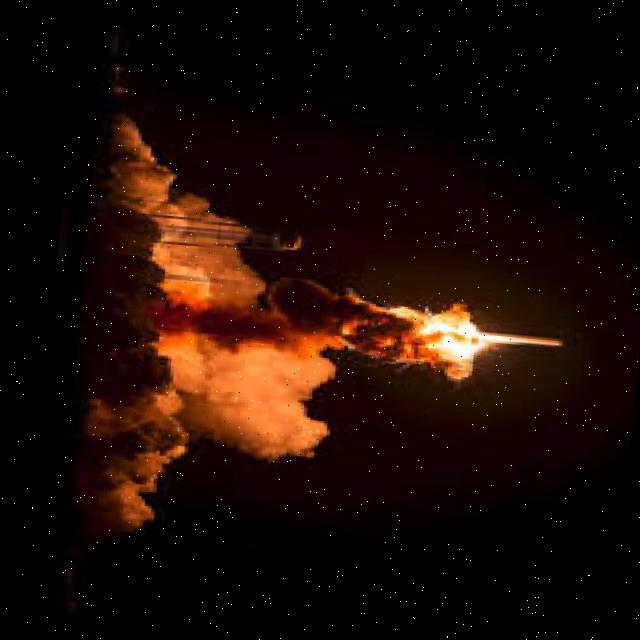explosion: (154, 150, 596, 479)
